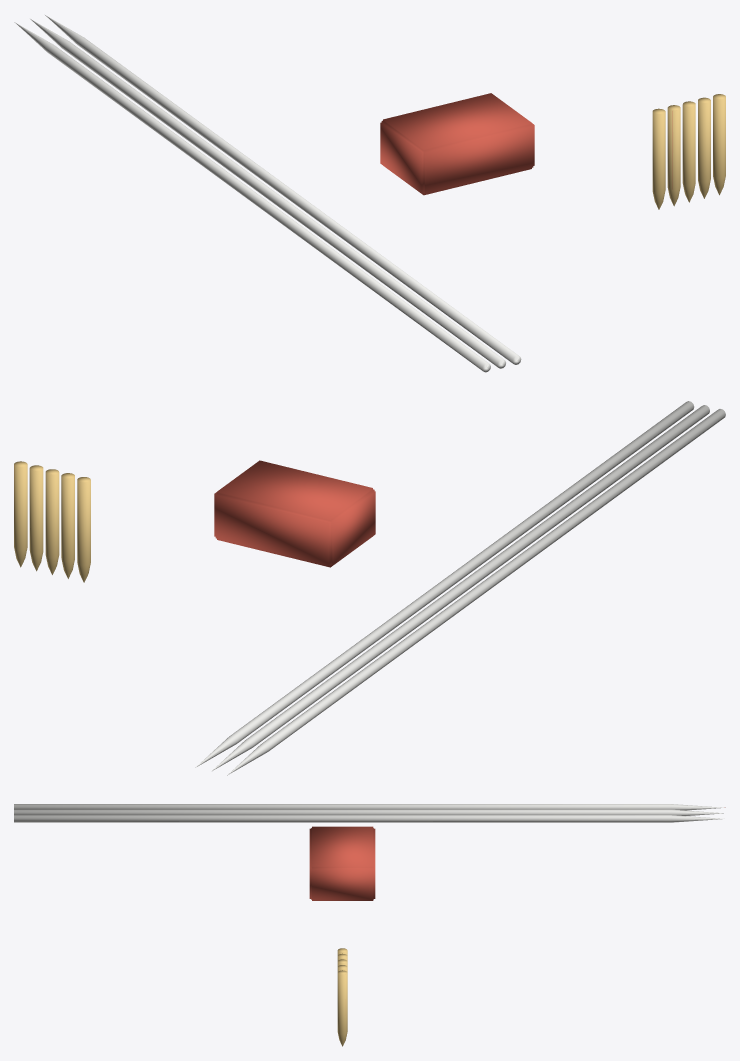
Rendered from Pickup_Ammo.fbx.
The picture shows the model from 3 angles, top to bottom: view 1: azimuth 30°, elevation 25°; view 2: azimuth 150°, elevation 25°; view 3: azimuth 270°, elevation 25°; orthographic projection. The views are drawn at different scales.
Parts seen in each view (by area): view 1: Pickup_Ammo_Game; view 2: Pickup_Ammo_Game; view 3: Pickup_Ammo_Game.
Part boxes in pixels (x1,y1,x2,y2): Pickup_Ammo_Game: (14, 15, 725, 372); Pickup_Ammo_Game: (14, 401, 725, 775); Pickup_Ammo_Game: (14, 804, 725, 1046).
Size of the model in its own units: 0.366 by 0.105 by 0.65.
